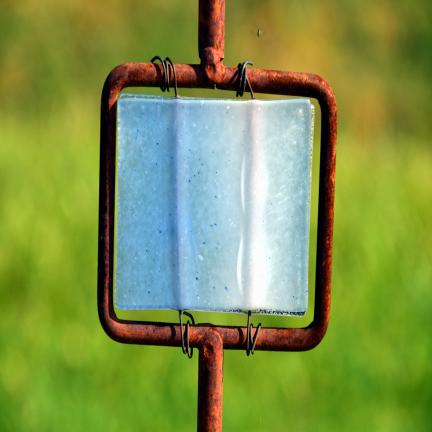karat: (98, 0, 239, 346)
